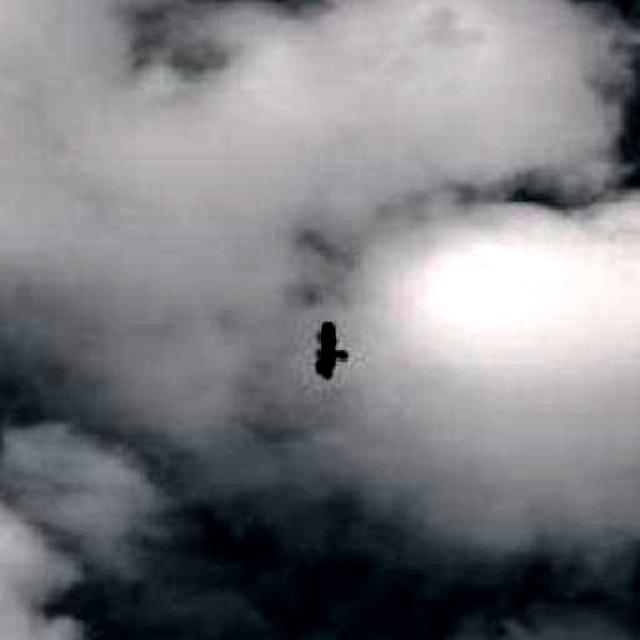airplane: (306, 318, 352, 385)
